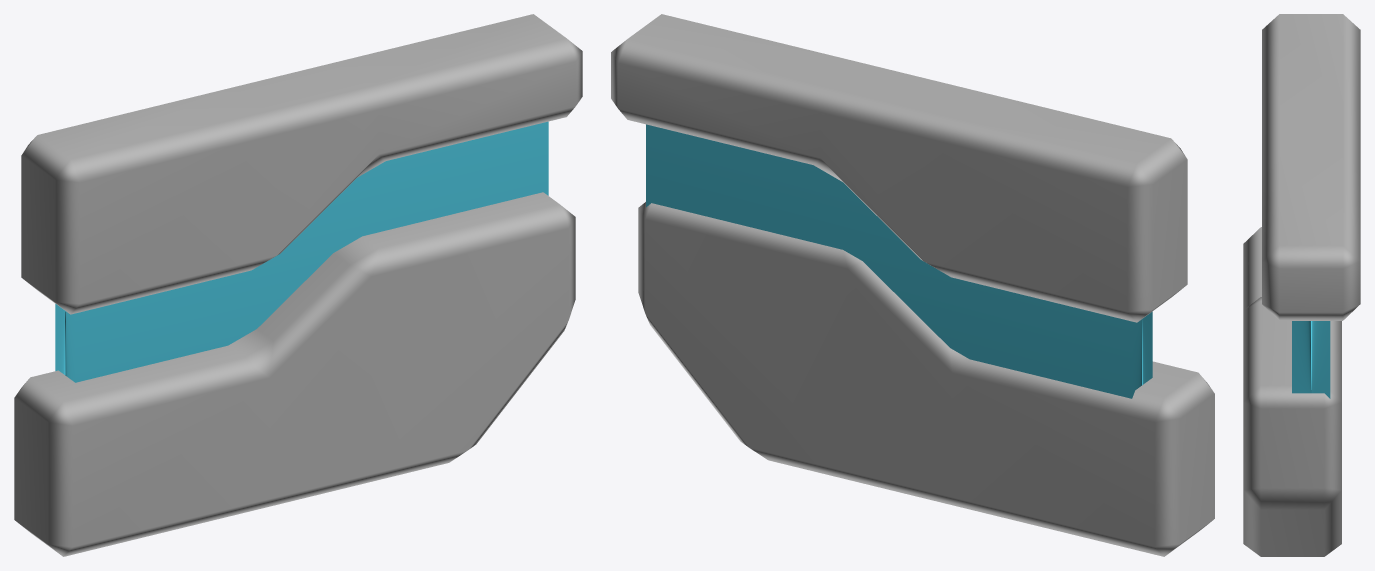
File: panel_010.fbx
3 views of the same model, side by side, from view 1: azimuth 30°, elevation 25°; view 2: azimuth 150°, elevation 25°; view 3: azimuth 270°, elevation 25° (orthographic). The views are drawn at different scales.
Parts seen in each view (by area): view 1: panel_010; view 2: panel_010; view 3: panel_010.
Part boxes in pixels (x1,y1,x2,y2): panel_010: [14, 14, 582, 556]; panel_010: [611, 14, 1214, 556]; panel_010: [1243, 14, 1360, 556].
Bounding box in the file's own units: 543 × 106 × 368.
